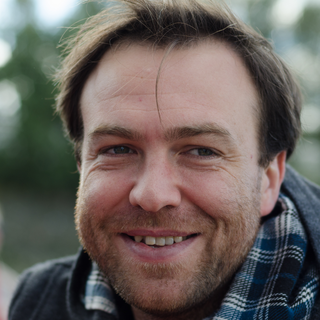eye: (93, 139, 143, 166), (172, 140, 225, 165)
